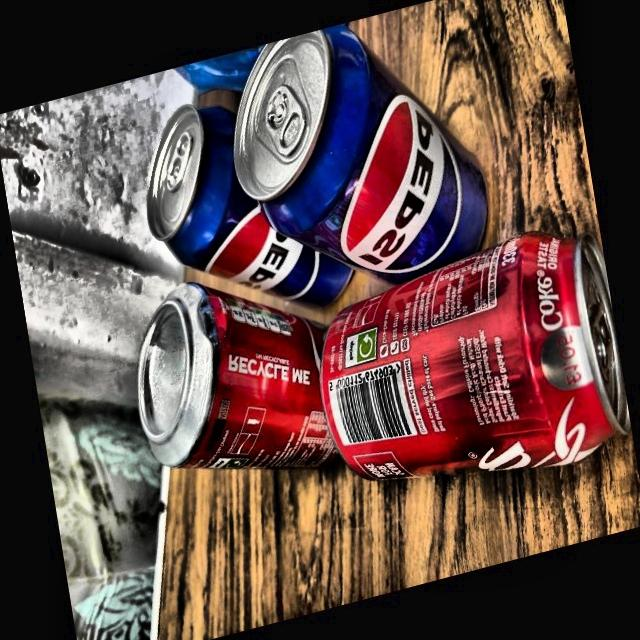coke-can: (312, 242, 634, 467), (134, 294, 352, 471)
pepsi-can: (242, 38, 482, 276), (150, 100, 354, 307)
